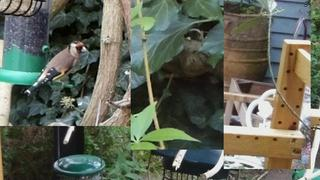goldfinch: (23, 40, 91, 99)
